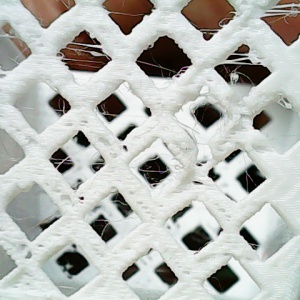3dpstringing: (175, 99, 229, 150), (213, 51, 271, 89), (85, 199, 142, 237), (63, 41, 108, 79), (131, 157, 182, 189), (11, 207, 65, 235), (136, 60, 192, 86), (201, 10, 242, 44), (48, 152, 106, 173), (260, 3, 299, 30), (1, 34, 29, 69), (16, 103, 71, 116), (241, 151, 255, 202), (97, 110, 151, 123), (269, 94, 299, 116), (50, 281, 84, 298), (107, 11, 147, 23), (238, 240, 269, 250)
3dpunderextrusion: (219, 111, 258, 156), (181, 133, 225, 171), (129, 188, 166, 232), (88, 134, 139, 163), (47, 183, 85, 213)
